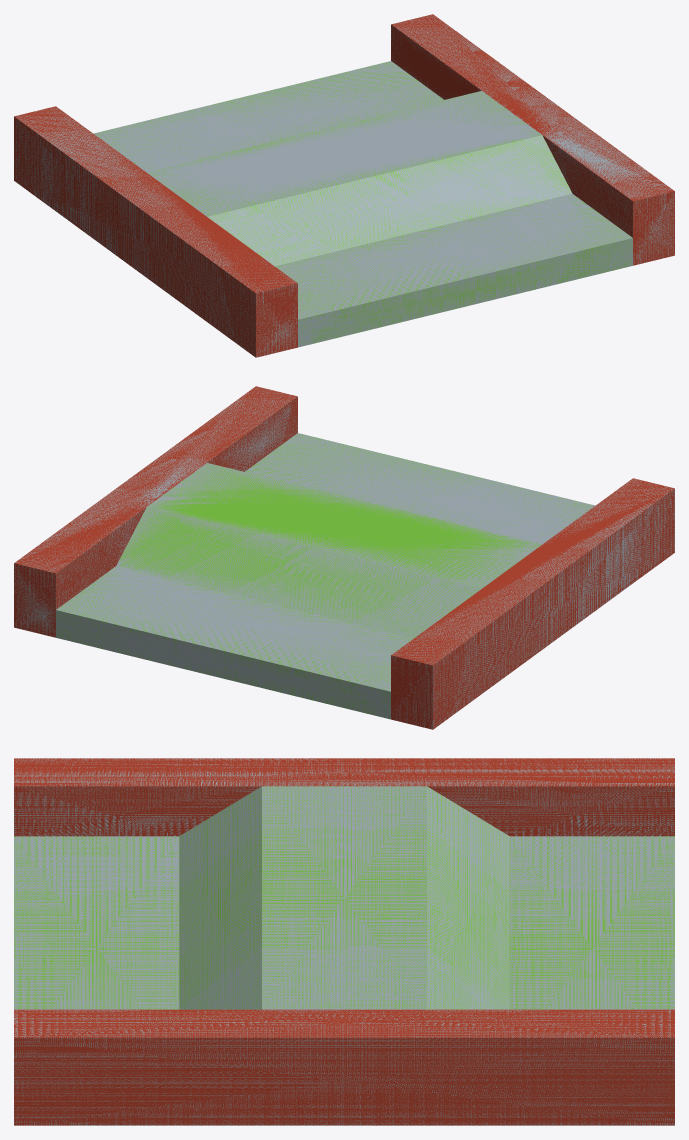
The model's file is Hill_square_01.obj.
The picture shows the model from 3 angles, top to bottom: view 1: azimuth 30°, elevation 25°; view 2: azimuth 150°, elevation 25°; view 3: azimuth 270°, elevation 25°; orthographic projection. The views are drawn at different scales.
Parts seen in each view (by area): view 1: Mesh1 Hill_square Model; view 2: Mesh1 Hill_square Model; view 3: Mesh1 Hill_square Model.
Part boxes in pixels (box(x1,y1,x2,y2)): Mesh1 Hill_square Model: box(14, 14, 674, 357); Mesh1 Hill_square Model: box(14, 386, 674, 729); Mesh1 Hill_square Model: box(14, 758, 674, 1125).
Bounding box in the file's own units: 3 × 0.44 × 3.
